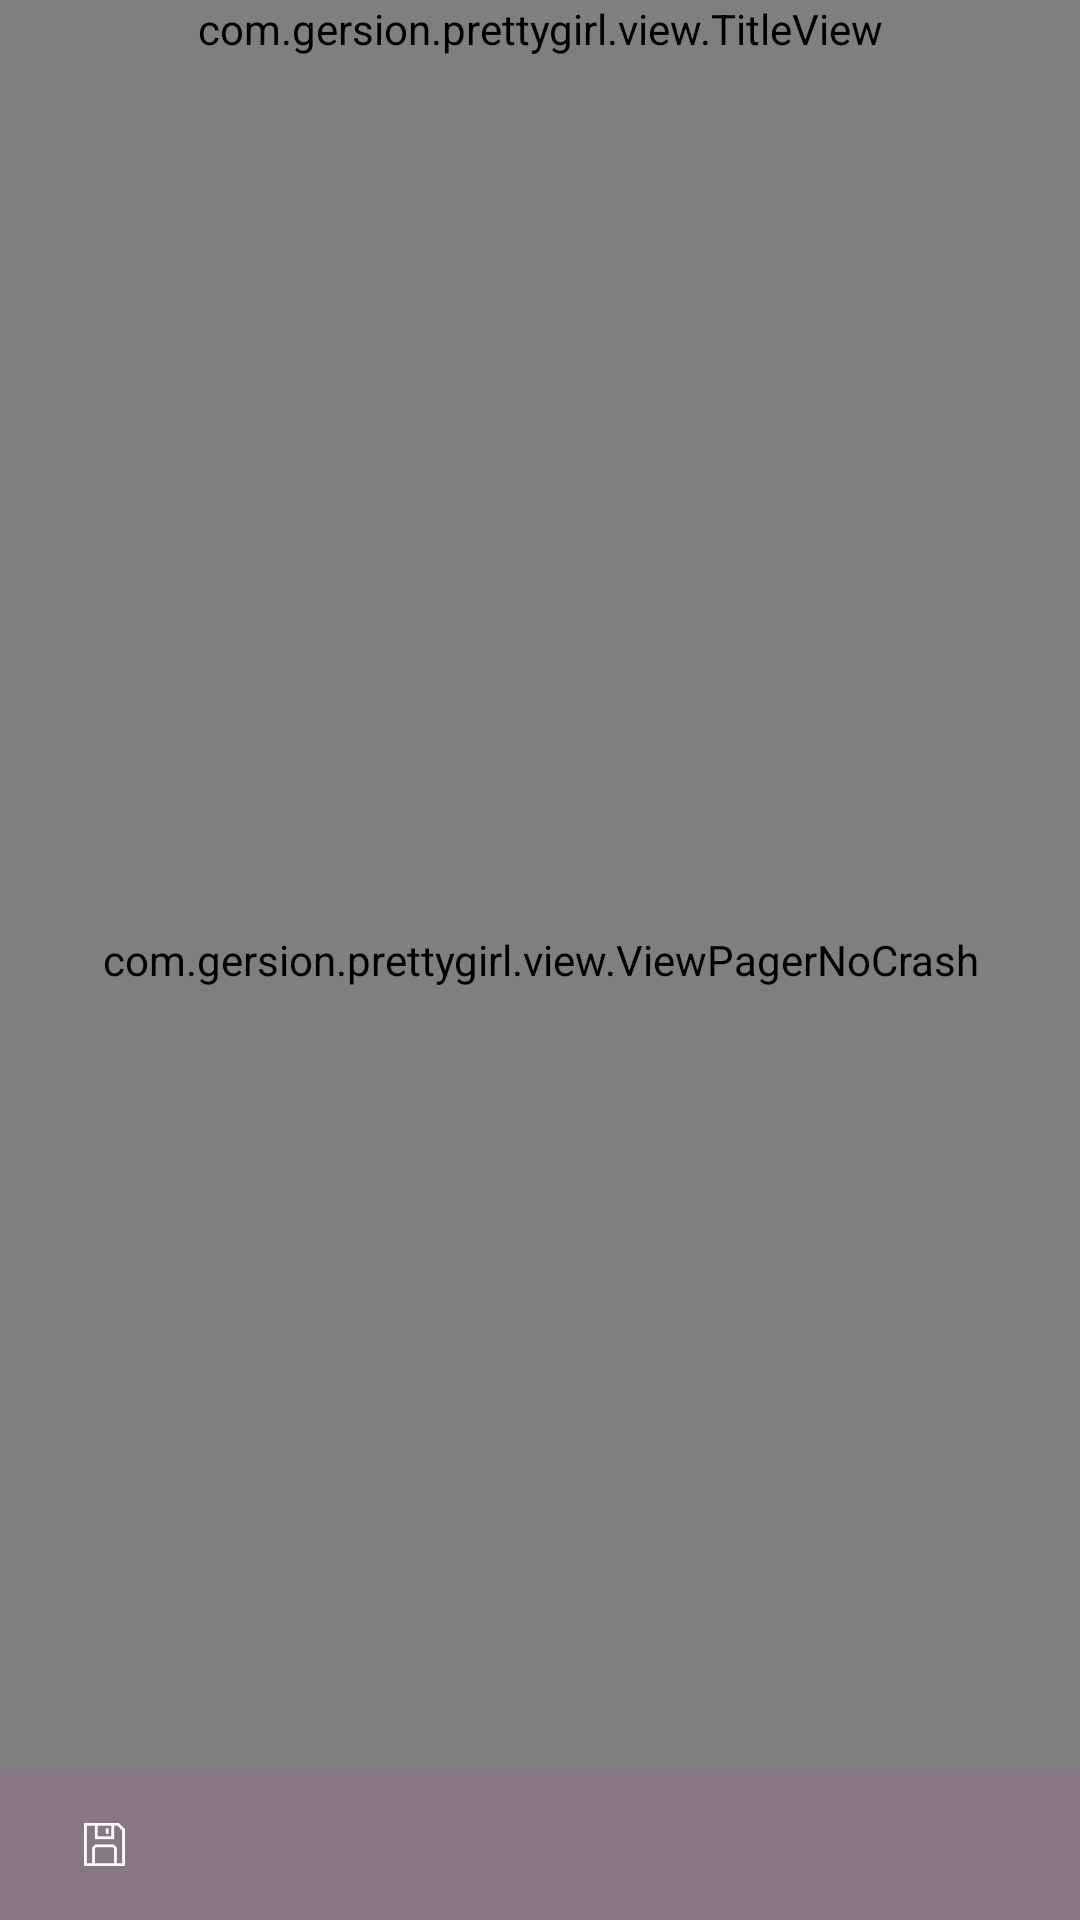

Point at icon controls on the screen. Image size 1080×1920, points as [x,y].
save: [104,1844]
